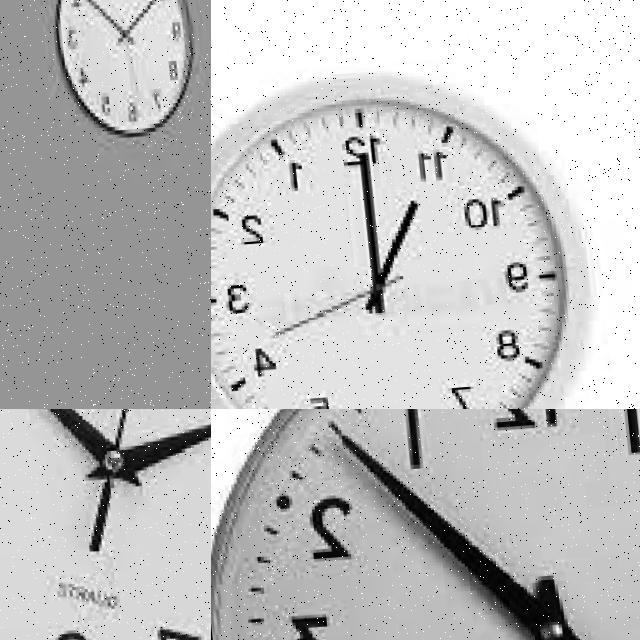Clocks-images: (212, 68, 598, 410), (212, 410, 640, 640), (1, 410, 212, 640), (42, 1, 199, 154)
